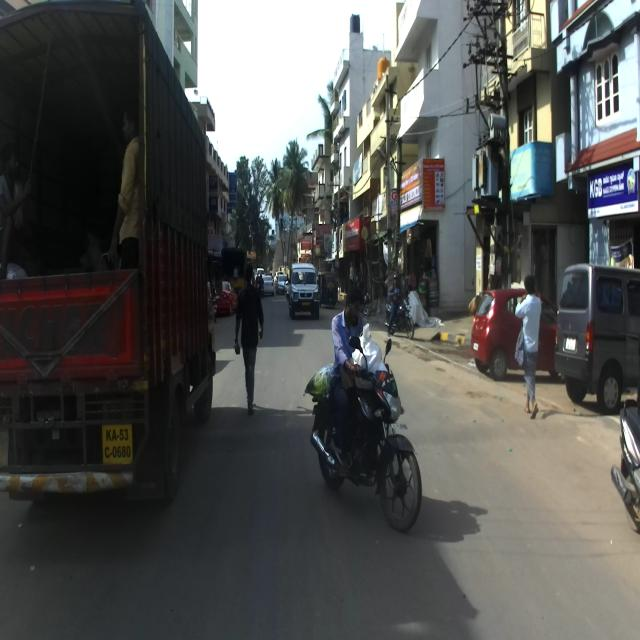car ahead at: (556, 262, 640, 408)
motorcycle ahead at: (308, 360, 423, 538)
person ahead at: (233, 261, 275, 419), (511, 275, 541, 419)
truck ahead at: (2, 0, 223, 514)
